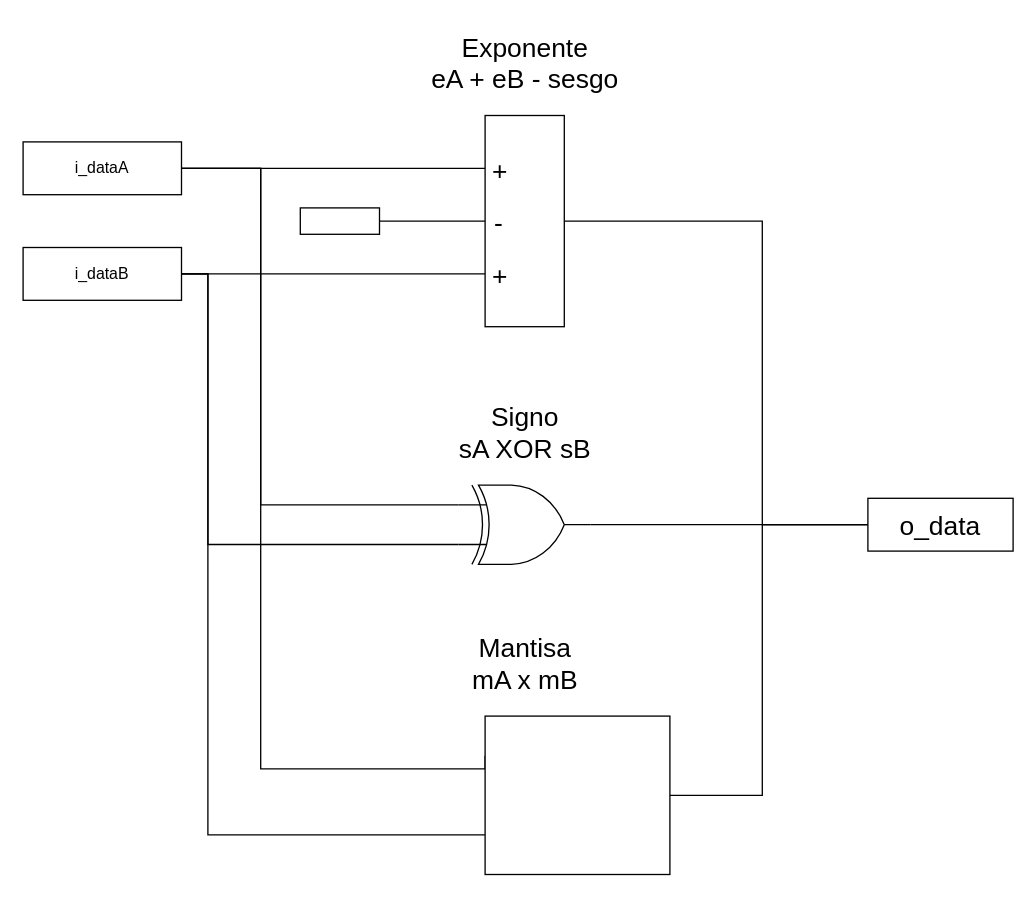
Some shapes in this 1036 by 898 pixel diagram are drawn without their labels. The centre of each missing label's shape, as x and y in pixels:
"Multiplicador no signado" belongs at pixel 577 794.
"sesgo" belongs at pixel 339 220.
